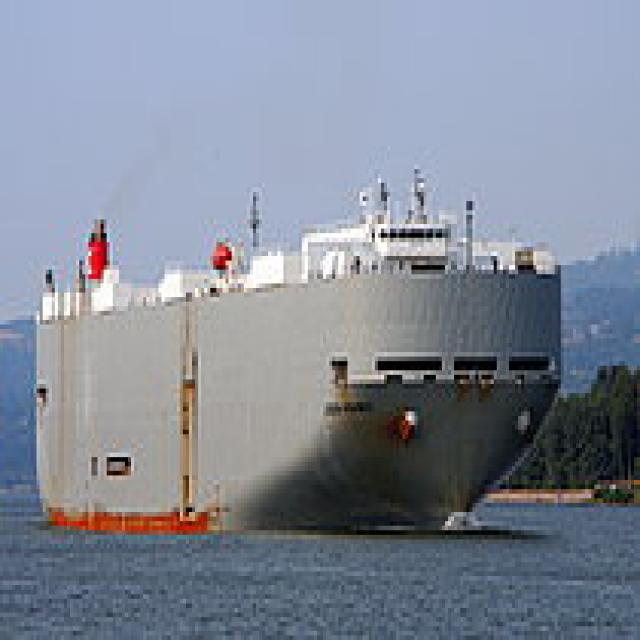Carrier: (27, 160, 564, 535)
